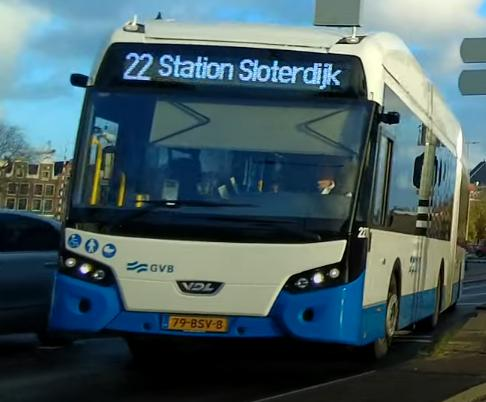license-plate: (161, 313, 229, 334)
